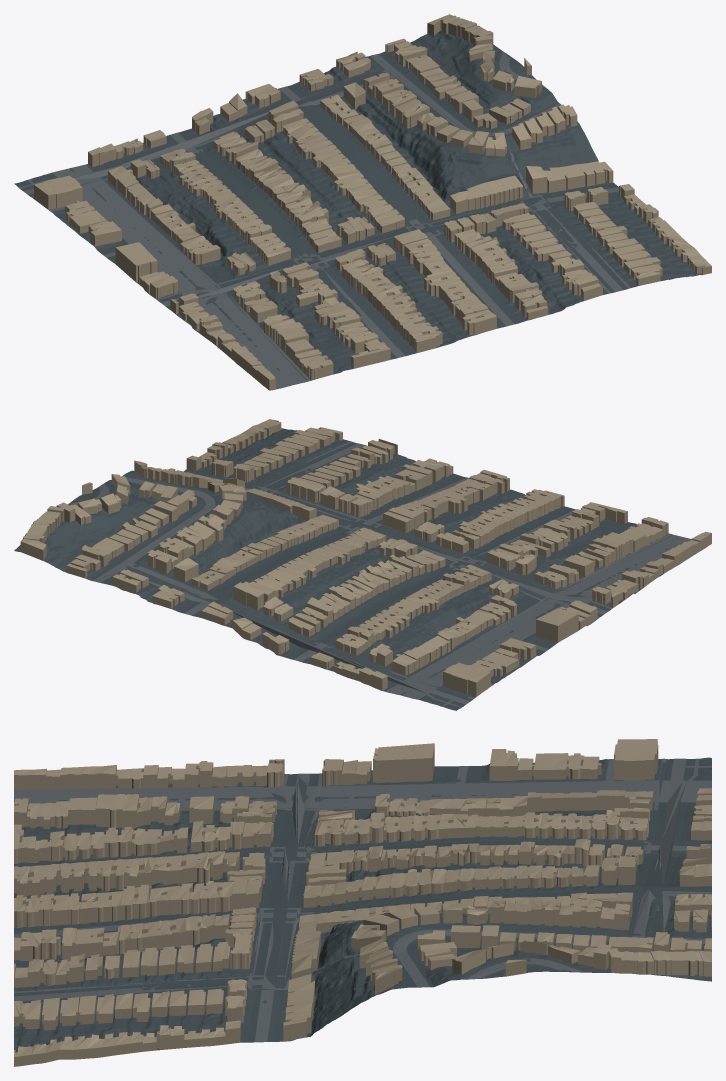
The model's file is epsg26910-1422-10883.lod0.glb.
The picture shows the model from 3 angles, top to bottom: view 1: azimuth 30°, elevation 25°; view 2: azimuth 150°, elevation 25°; view 3: azimuth 270°, elevation 25°; orthographic projection. The views are drawn at different scales.
Visible parts, largest first — view 1: epsg26910-1422-10883-lod0; view 2: epsg26910-1422-10883-lod0; view 3: epsg26910-1422-10883-lod0.
Boxes of the visible parts, <box> form: epsg26910-1422-10883-lod0: <box>14,14,711,390</box>; epsg26910-1422-10883-lod0: <box>14,419,711,710</box>; epsg26910-1422-10883-lod0: <box>14,739,711,1066</box>.
Size of the model in its own units: 384 by 75.31 by 384.
